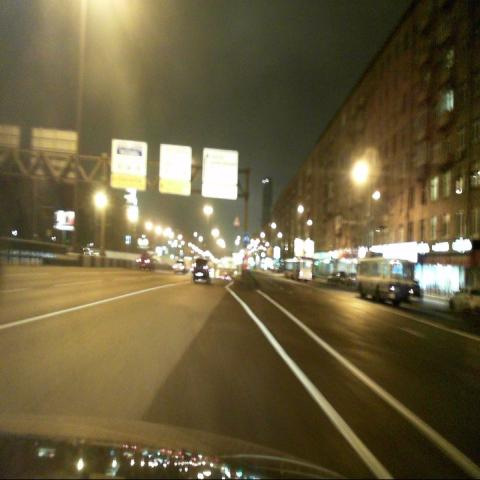4_2_3: (242, 231, 250, 246)
